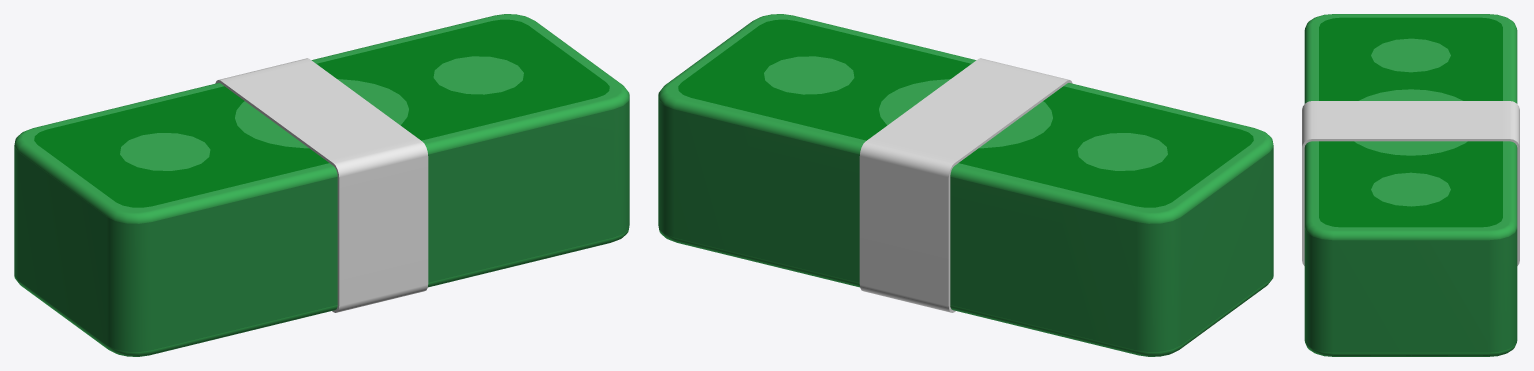
Rendered from money-V1.fbx.
3 renders of one model, left to right at view 1: azimuth 30°, elevation 25°; view 2: azimuth 150°, elevation 25°; view 3: azimuth 270°, elevation 25°, orthographic. The views are drawn at different scales.
Visible parts, largest first — view 1: money-v1; view 2: money-v1; view 3: money-v1.
Part boxes in pixels (x1,y1,x2,y2): money-v1: [14, 14, 629, 356]; money-v1: [658, 14, 1273, 356]; money-v1: [1302, 14, 1519, 356].
Size of the model in its own units: 4.54 by 1.24 by 1.88.
